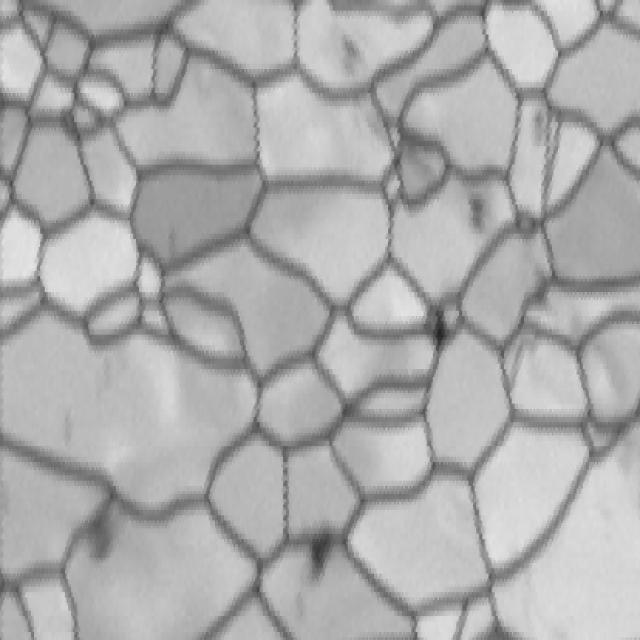good_void: (83, 492, 121, 570), (304, 523, 337, 584), (336, 28, 362, 87), (427, 298, 453, 352), (526, 101, 547, 157), (59, 402, 80, 448), (467, 188, 486, 230)
